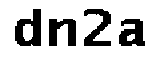2: (79, 5, 114, 50)
a: (117, 15, 148, 49)
d: (8, 4, 44, 49)
n: (46, 12, 79, 51)
